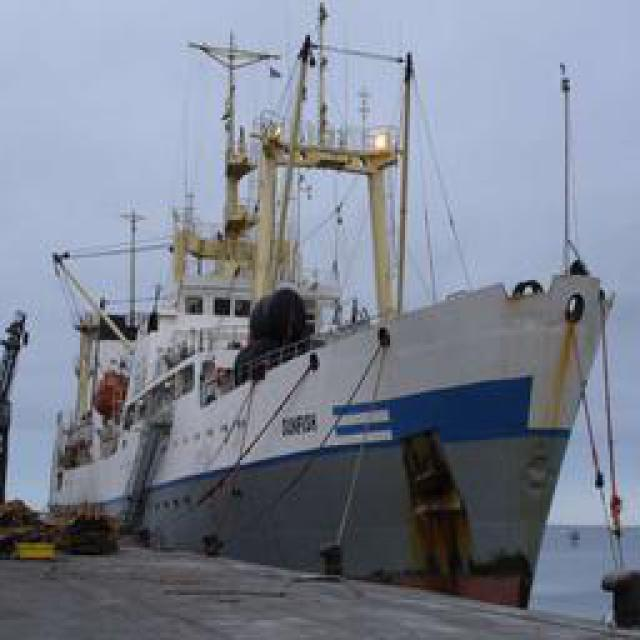Ship: (32, 15, 620, 583)
